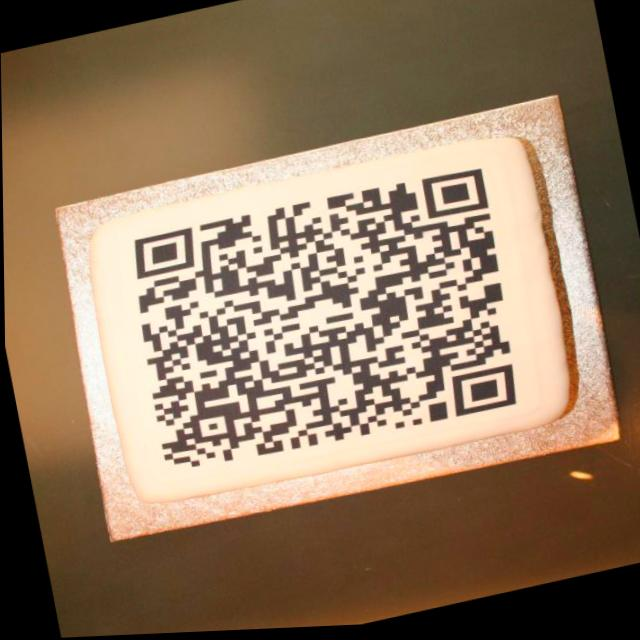qrcode: (121, 166, 526, 483)
